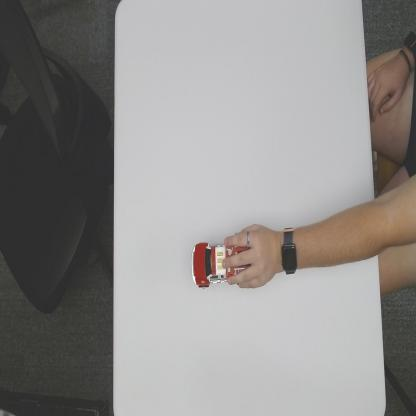Arm: (302, 184, 388, 278)
Firetruck: (190, 241, 246, 291)
Hand: (221, 223, 279, 290)
